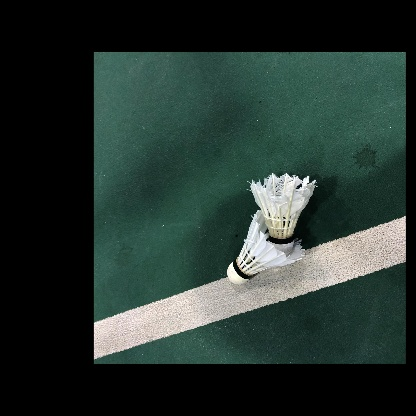ball_single: (227, 173, 316, 284)
